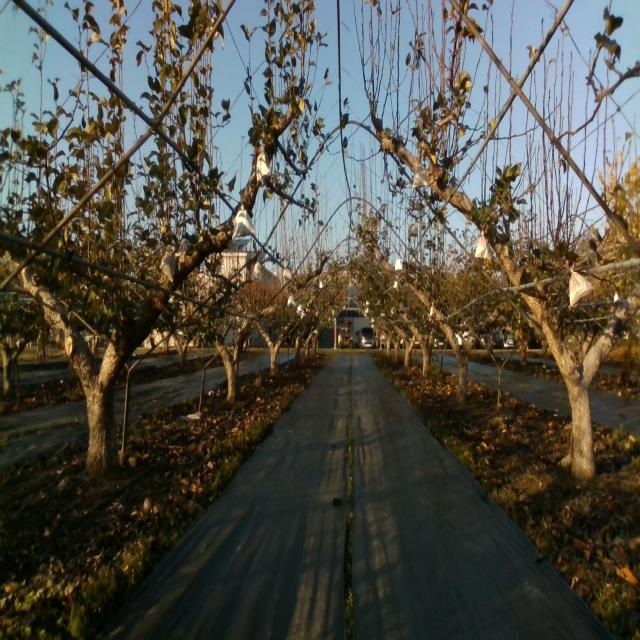pearbags: (568, 260, 593, 308), (231, 205, 256, 237), (254, 149, 273, 186), (158, 248, 176, 281), (474, 228, 492, 258), (412, 162, 429, 188)
